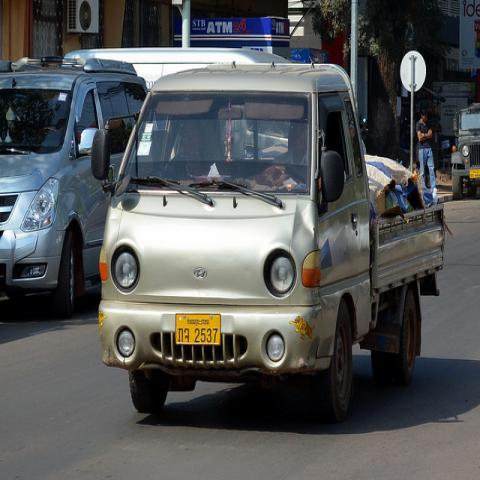car: (90, 58, 454, 427), (0, 55, 148, 320), (450, 110, 480, 200)
truck: (92, 63, 450, 422)
